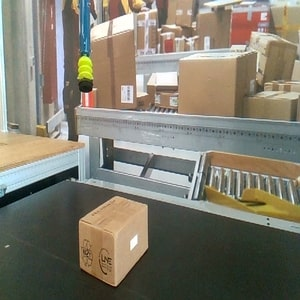box: (78, 195, 150, 288)
